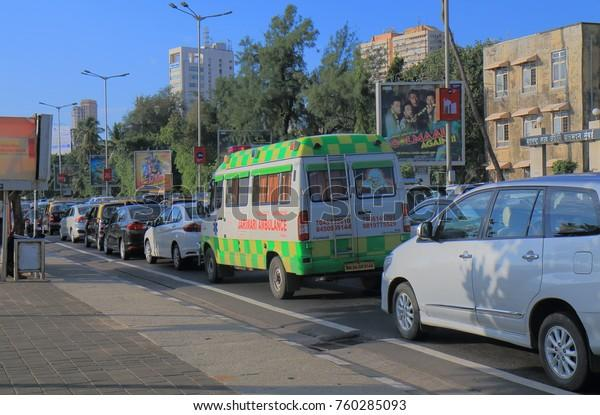ER: (200, 132, 411, 299)
